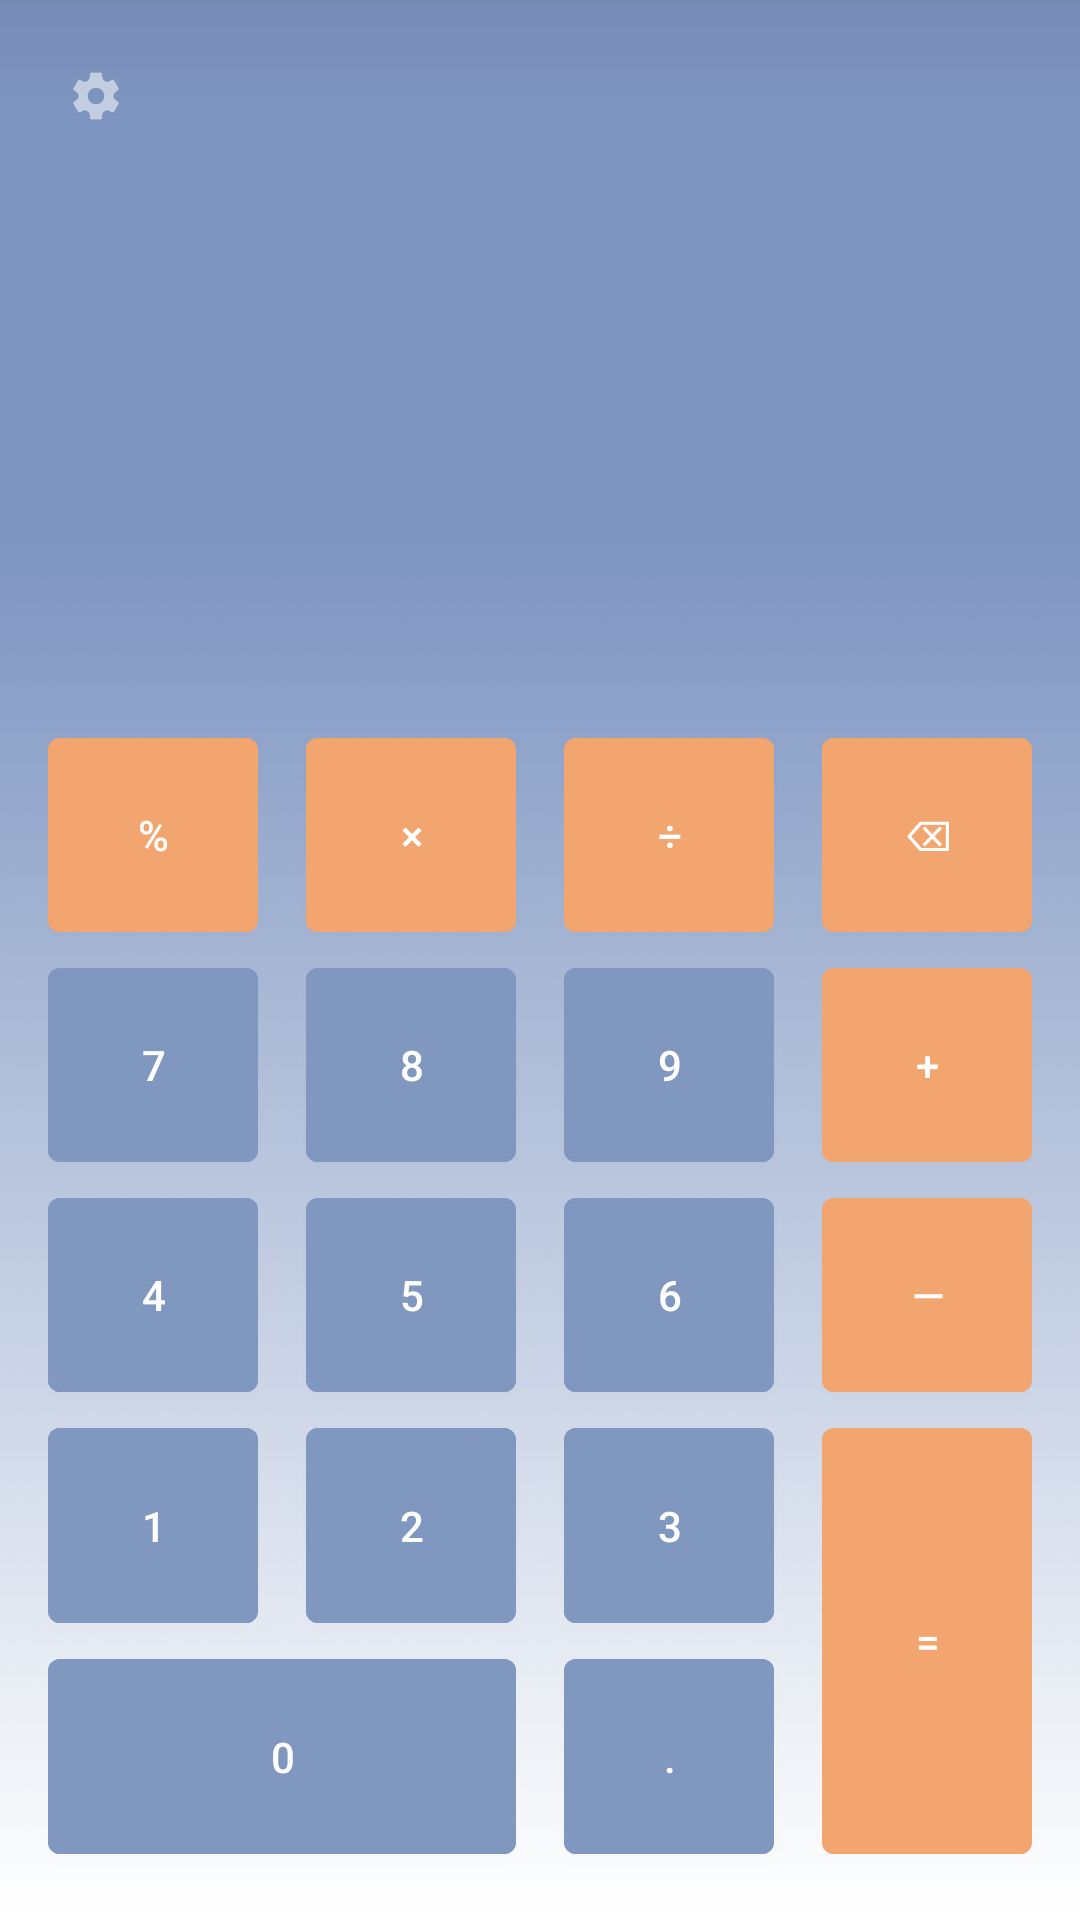

Where icons sit on this 1080×1920 app screen, as (x1, y1, x2, y2):
settings: (73, 72, 119, 120)
